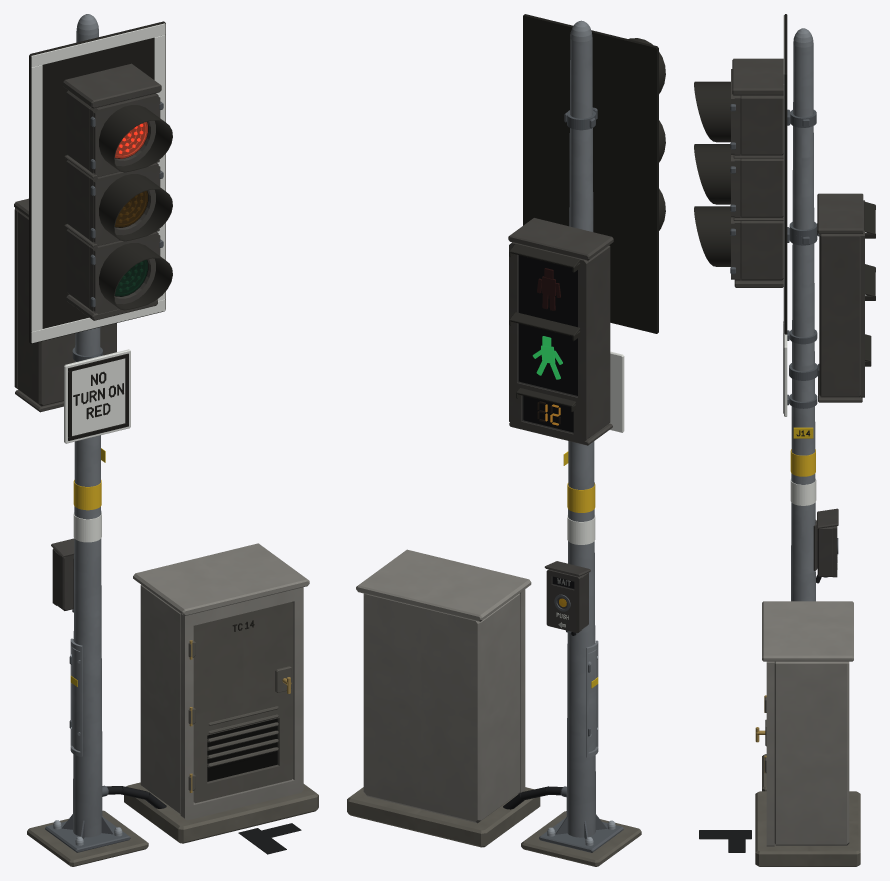
File: traffic-light.glb
The picture shows the model from 3 angles, left to right: view 1: azimuth 30°, elevation 25°; view 2: azimuth 150°, elevation 25°; view 3: azimuth 270°, elevation 25°; orthographic projection. The views are drawn at different scales.
Visible parts, largest first — view 1: tl_cab, tl_body, tl_cabDark, tl_galv, tl_boardBlk, tl_hood, tl_boardWht, tl_conc, tl_cavity, tl_plateWht, tl_steelDark, tl_plateBlk (+7 smaller); view 2: tl_cab, tl_boardBlk, tl_galv, tl_body, tl_lensPed, tl_cavity, tl_conc, tl_hood, tl_pbBody, tl_steelDark, tl_plateWht, tl_reflect (+2 smaller); view 3: tl_body, tl_cab, tl_galv, tl_hood, tl_conc, tl_steelDark, tl_pbBody, tl_boardBlk, tl_tar, tl_boardWht, tl_reflect, tl_reflectY.
Boxes of the visible parts, x1,y1,x2,y2 form: tl_cab: [133, 543, 309, 820]; tl_body: [14, 63, 161, 412]; tl_cabDark: [188, 602, 293, 803]; tl_galv: [70, 14, 102, 837]; tl_boardBlk: [29, 21, 165, 343]; tl_hood: [15, 105, 172, 310]; tl_boardWht: [31, 23, 165, 343]; tl_conc: [27, 782, 318, 866]; tl_cavity: [114, 122, 277, 781]; tl_plateWht: [64, 349, 130, 443]; tl_steelDark: [45, 101, 163, 852]; tl_plateBlk: [68, 353, 254, 631]; tl_cab: [356, 549, 531, 823]; tl_boardBlk: [523, 14, 658, 333]; tl_galv: [566, 20, 598, 837]; tl_body: [508, 218, 613, 445]; tl_lensPed: [518, 255, 577, 589]; tl_cavity: [519, 255, 577, 432]; tl_conc: [347, 787, 641, 866]; tl_hood: [509, 38, 665, 411]; tl_pbBody: [544, 561, 590, 633]; tl_steelDark: [539, 107, 623, 852]; tl_plateWht: [609, 351, 624, 432]; tl_reflect: [567, 515, 595, 544]; tl_body: [731, 58, 864, 402]; tl_cab: [762, 601, 853, 846]; tl_galv: [791, 28, 815, 601]; tl_hood: [694, 81, 875, 366]; tl_conc: [755, 754, 860, 866]; tl_steelDark: [730, 104, 838, 577]; tl_pbBody: [813, 508, 838, 577]; tl_boardBlk: [784, 14, 787, 334]; tl_tar: [699, 830, 751, 852]; tl_boardWht: [783, 15, 784, 333]; tl_reflect: [790, 478, 816, 505]; tl_reflectY: [790, 449, 815, 476].
Bounding box in the file's own units: 1.25 × 3.6 × 0.7927.
34 materials, 6 textured.
